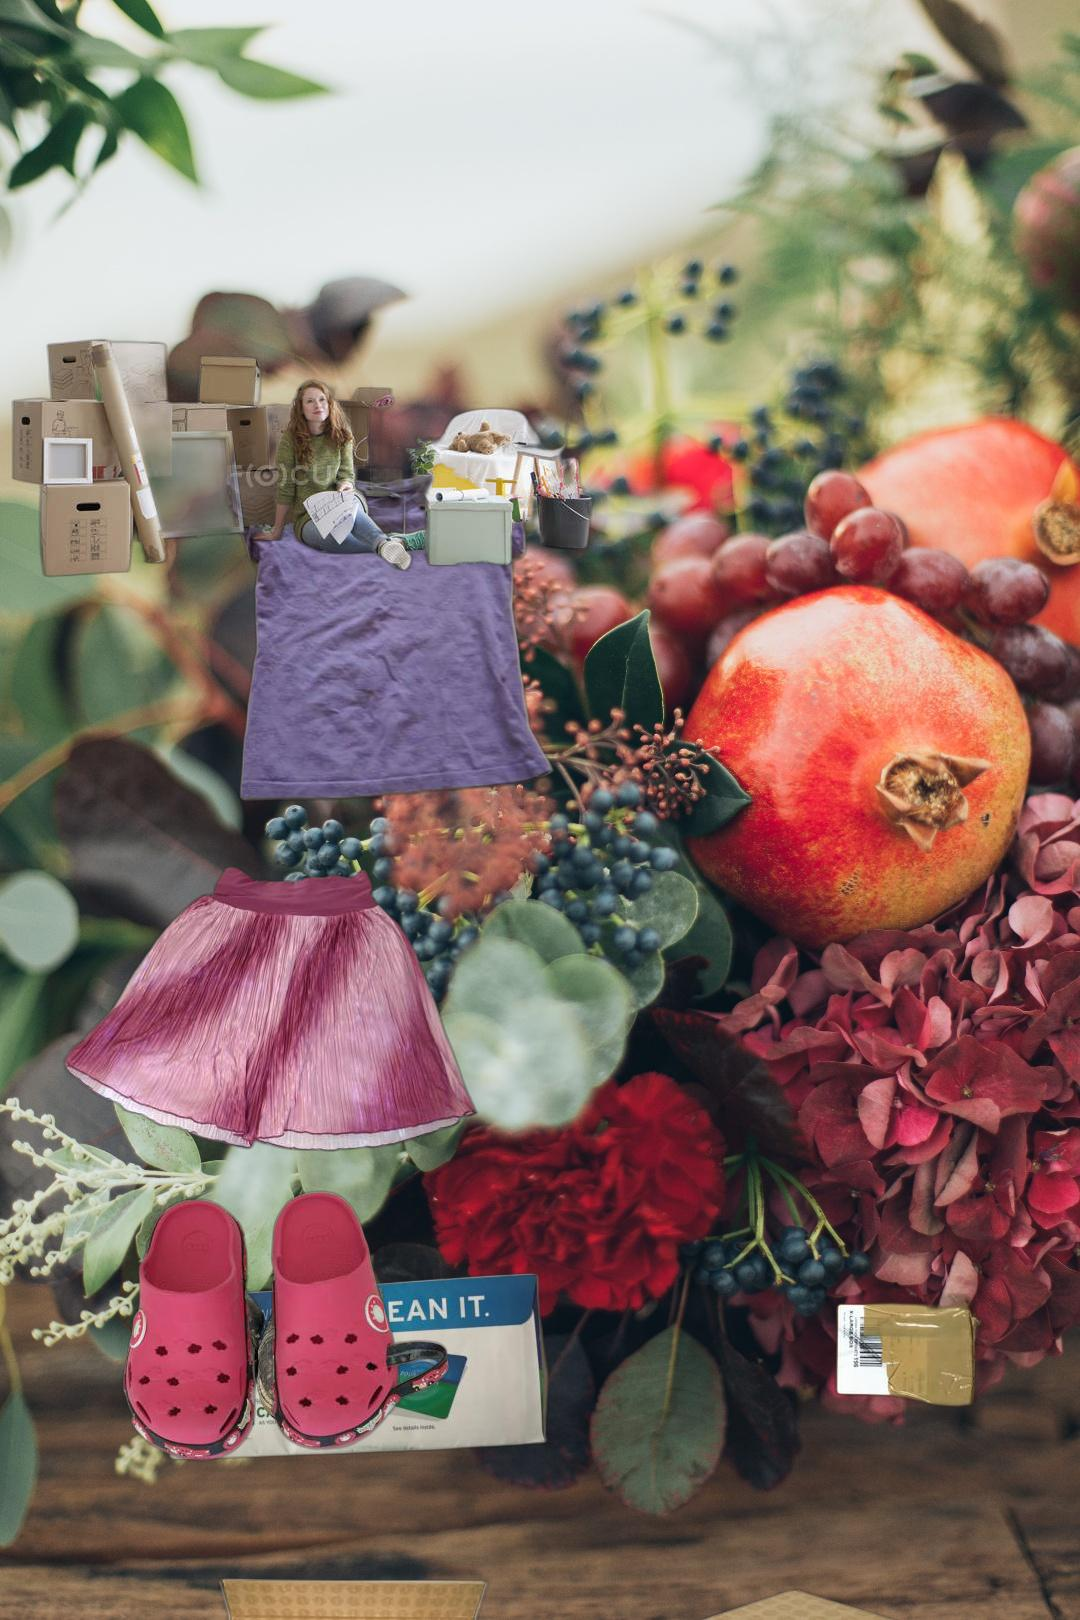clothes: (59, 864, 481, 1154), (221, 458, 558, 805)
paper: (155, 1270, 553, 1463)
shoes: (119, 1186, 452, 1466), (152, 1289, 391, 1431)
trashbox-cardboard: (6, 336, 598, 580), (152, 1574, 1080, 1620), (830, 1290, 996, 1410)
